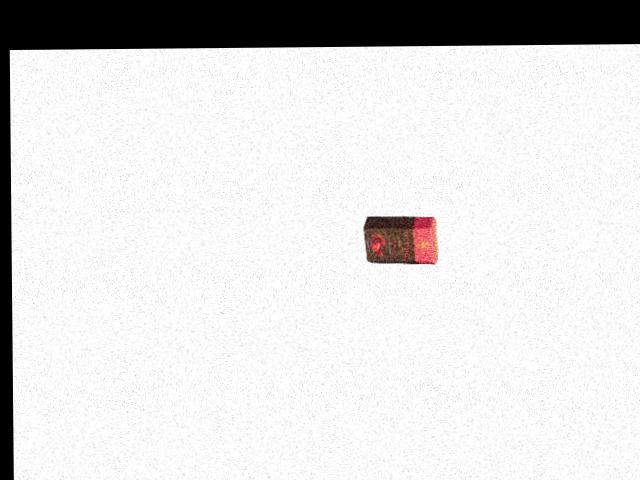chocolate: (356, 214, 440, 265)
